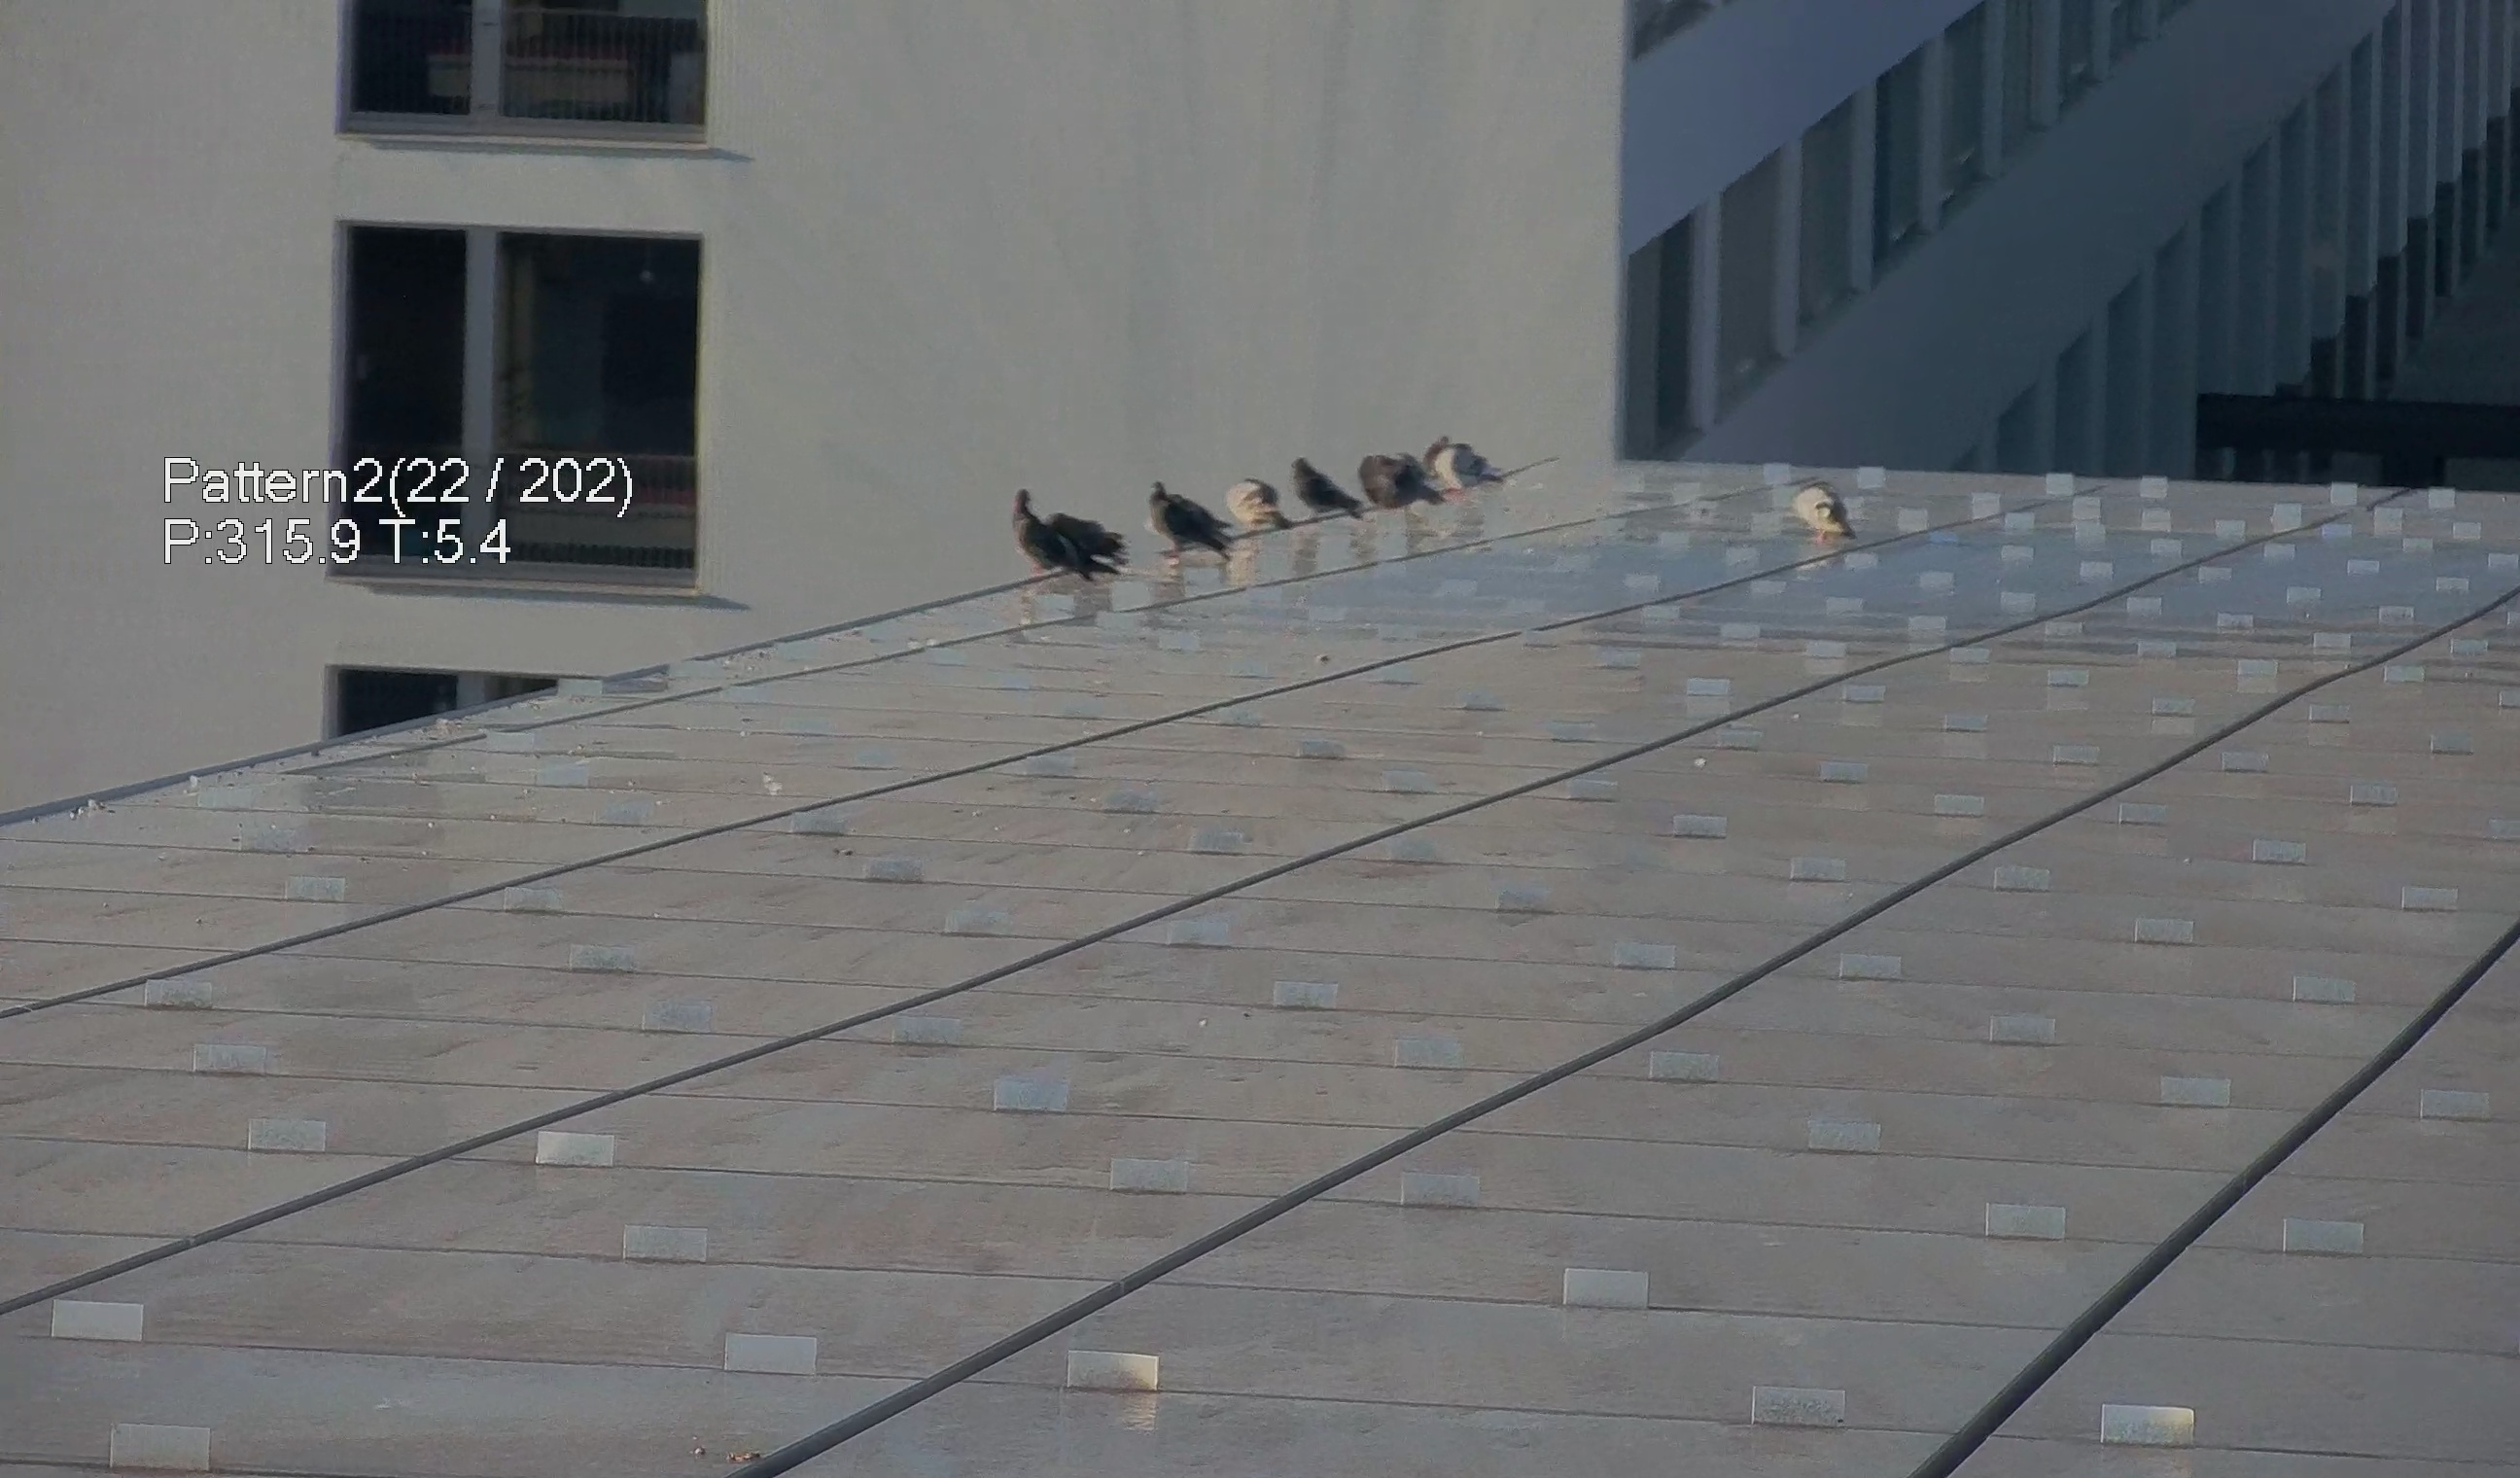Pigeon: (999, 491, 1122, 588), (1141, 480, 1242, 568), (1349, 449, 1453, 517), (1284, 456, 1377, 528), (1781, 473, 1862, 556), (1423, 428, 1509, 494), (1213, 475, 1301, 538)
